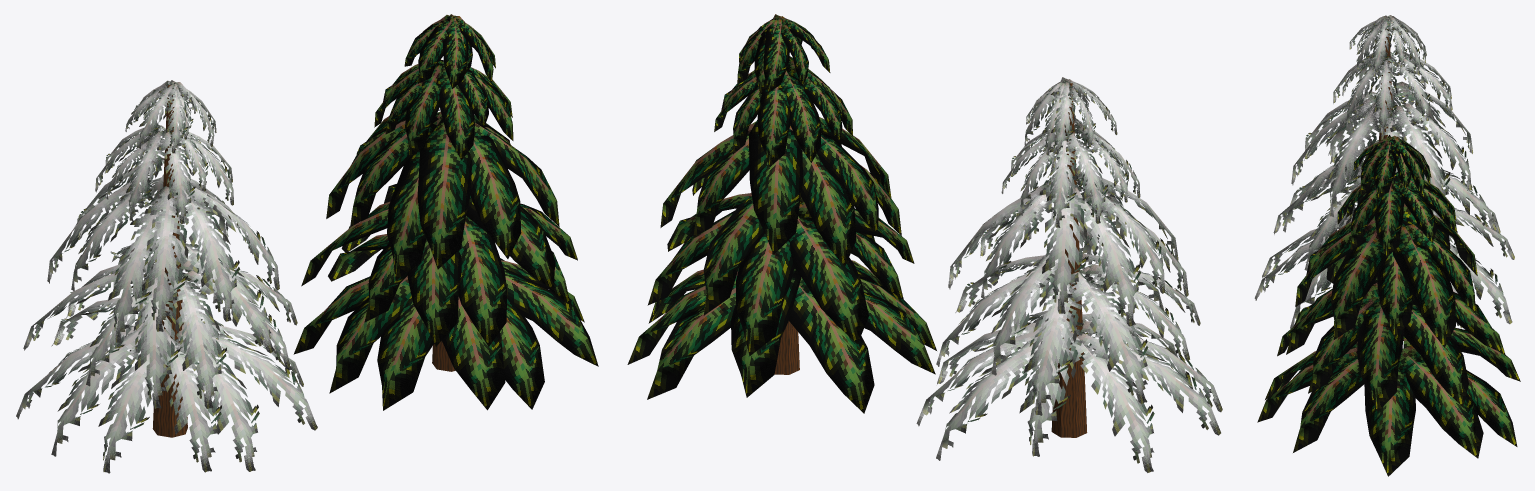
File: TREE_SPRUCE.gltf
3 views of the same model, side by side, from view 1: azimuth 30°, elevation 25°; view 2: azimuth 150°, elevation 25°; view 3: azimuth 270°, elevation 25° (orthographic). The views are drawn at different scales.
Parts seen in each view (by area): view 1: Spruce_tree_summer, Spruce_tree_wintter; view 2: Spruce_tree_summer, Spruce_tree_wintter; view 3: Spruce_tree_summer, Spruce_tree_wintter.
Part boxes in pixels (left/top/right/bottom): Spruce_tree_summer: left=293, top=14, right=598, bottom=410; Spruce_tree_wintter: left=16, top=80, right=317, bottom=473; Spruce_tree_summer: left=627, top=14, right=936, bottom=413; Spruce_tree_wintter: left=916, top=77, right=1222, bottom=472; Spruce_tree_summer: left=1257, top=135, right=1520, bottom=476; Spruce_tree_wintter: left=1254, top=15, right=1514, bottom=328.
Bounding box in the file's own units: 35.23 × 21.46 × 17.44.
Materials: 3 (3 with a texture image).
